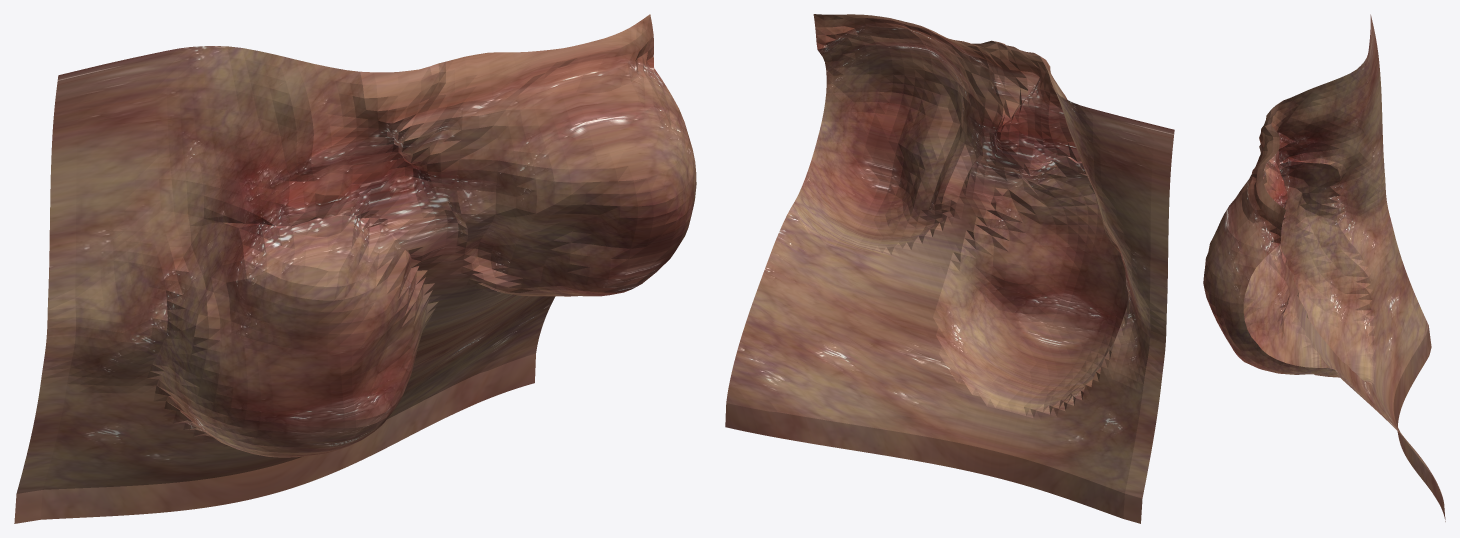
The model's file is liver_Obj.obj.
The picture shows the model from 3 angles, left to right: view 1: azimuth 30°, elevation 25°; view 2: azimuth 150°, elevation 25°; view 3: azimuth 270°, elevation 25°; orthographic projection. The views are drawn at different scales.
Visible parts, largest first — view 1: pPlane1; view 2: pPlane1; view 3: pPlane1.
Boxes of the visible parts, x1=… form: pPlane1: x1=14, y1=14, x2=696, y2=523; pPlane1: x1=725, y1=14, x2=1174, y2=523; pPlane1: x1=1203, y1=14, x2=1445, y2=521.
Bounding box in the file's own units: 5.98 × 5.11 × 3.3.
1 material, 1 textured.
